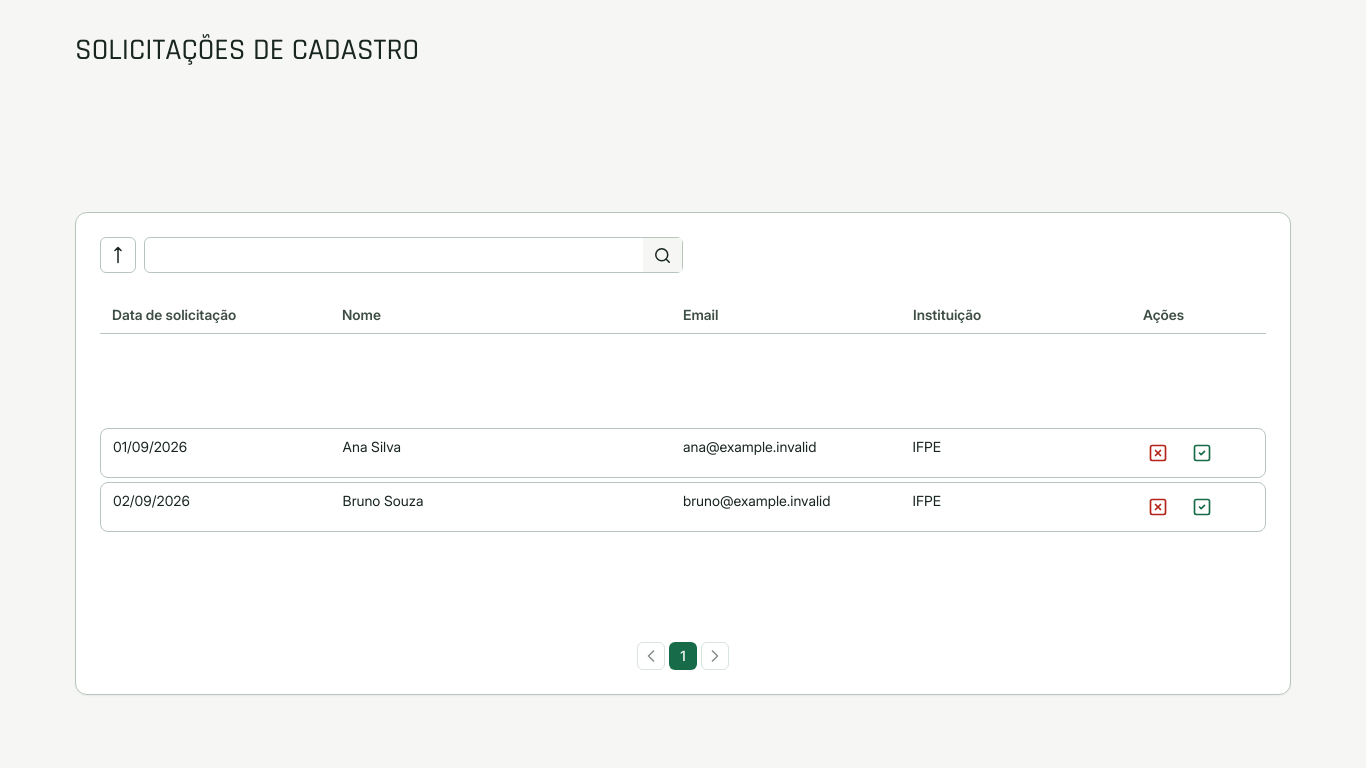
Scenario: RegistrationRequests: fluxo crítico de aprovação e rejeição › rejeita pelo ID correto e não envia uma segunda requisição
This screenshot has width=1366, height=768.
Expected: the text "Ana Silva" is shown, [343, 438, 401, 455]
Click the button named "Recusar Ana Silva". click: click(1158, 453)
box: [1142, 437, 1174, 469]
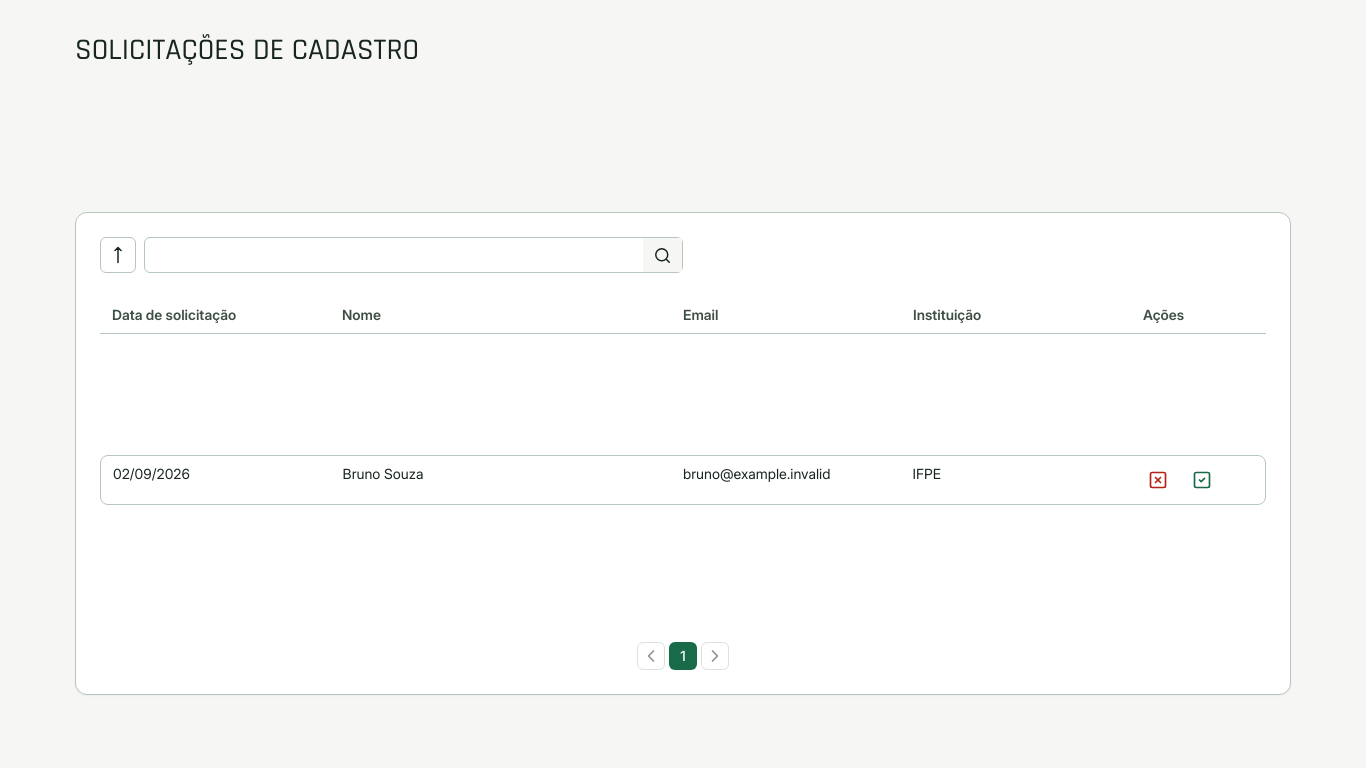
Expected: the text "Ana Silva" is gone
